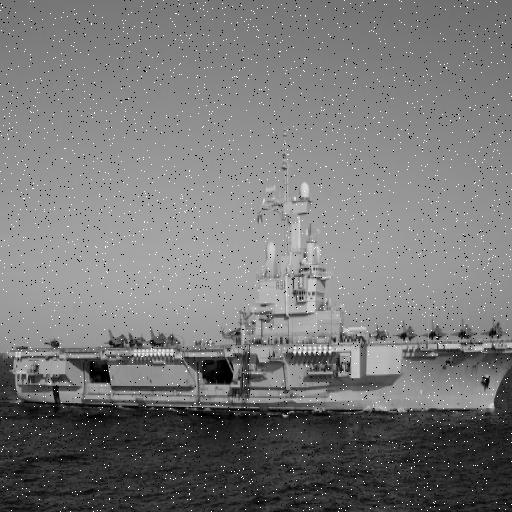Portanaves: (4, 122, 512, 424)
